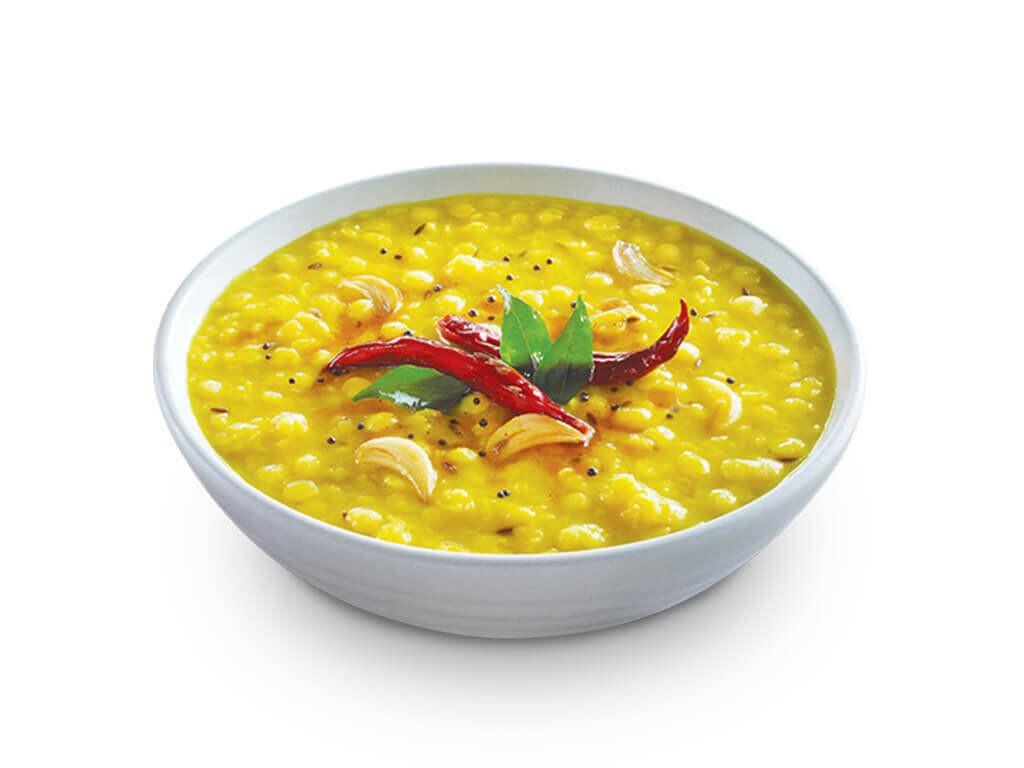Dal: (189, 197, 837, 558)
